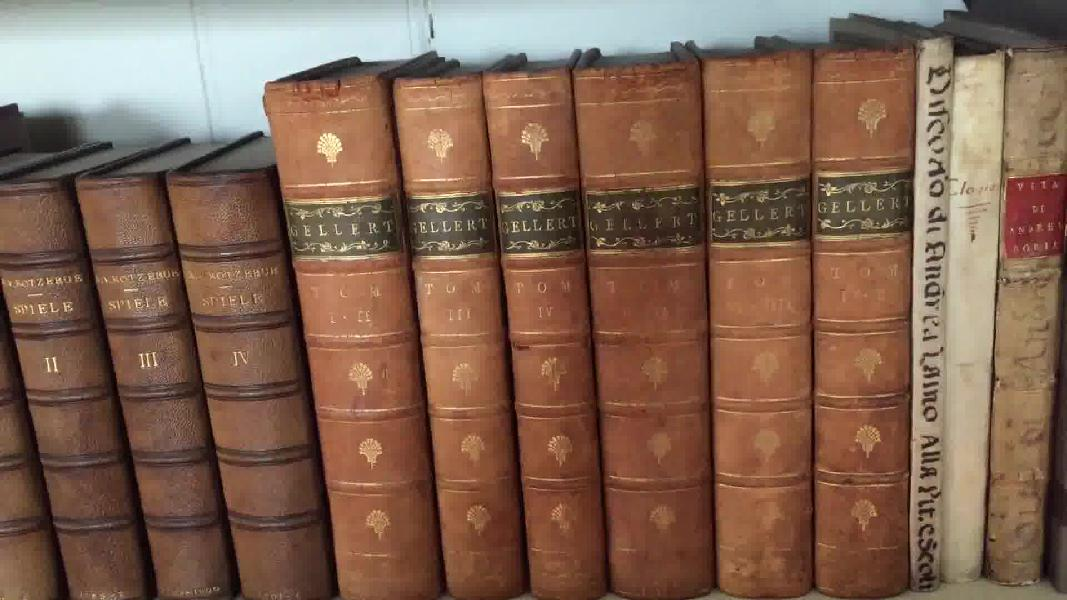Aa6-18_23: (258, 34, 917, 600)
Aa6-24: (911, 19, 951, 590)
Aa6-25: (947, 46, 993, 582)
Aa6-26: (985, 39, 1052, 589)
